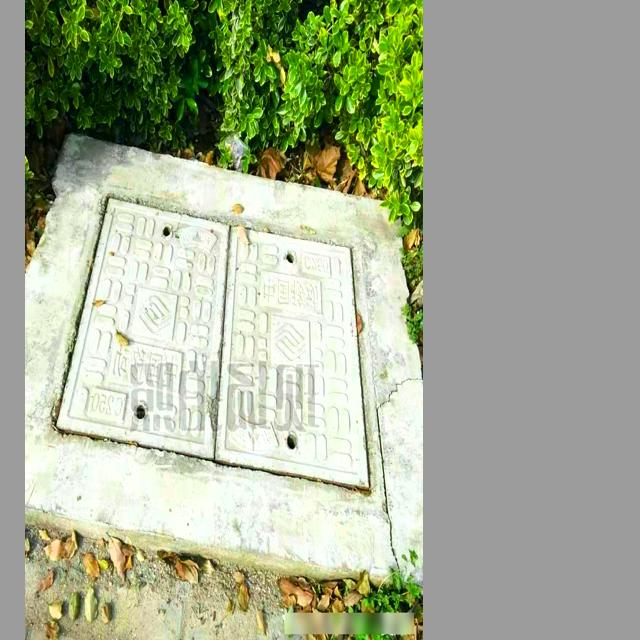good: (35, 207, 386, 499)
